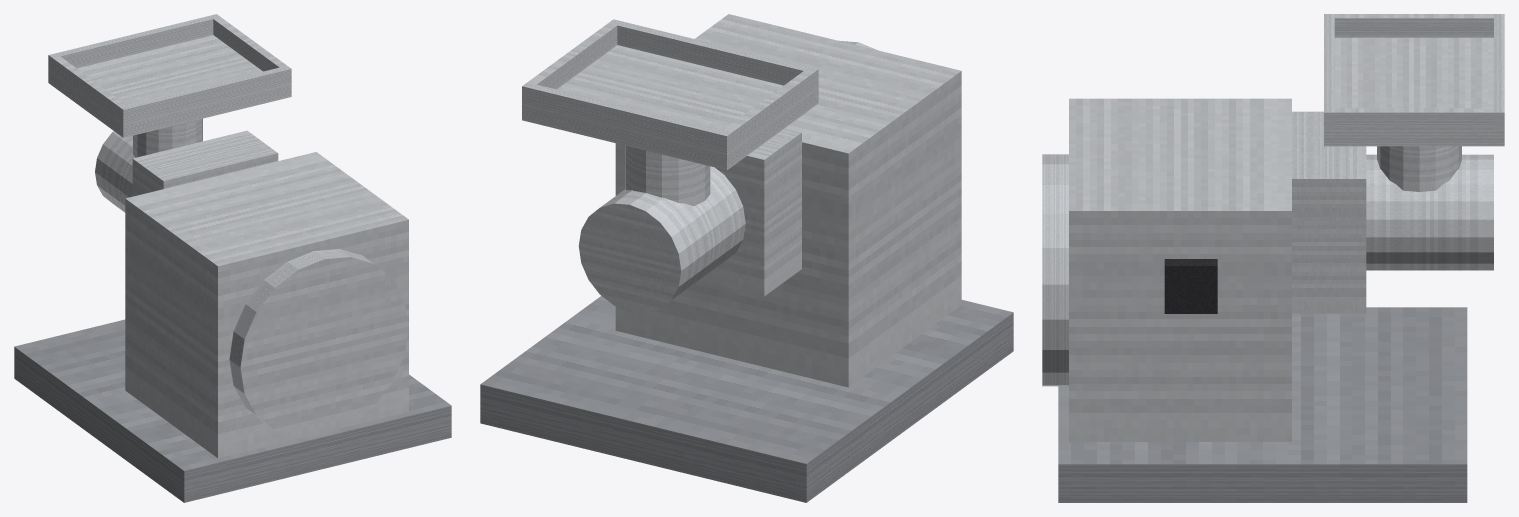
Rendered from kitchen_grinder.obj.
3 renders of one model, left to right at view 1: azimuth 30°, elevation 25°; view 2: azimuth 150°, elevation 25°; view 3: azimuth 270°, elevation 25°, orthographic. The views are drawn at different scales.
Visible parts, largest first — view 1: kitchen_grinder; view 2: kitchen_grinder; view 3: kitchen_grinder.
Part boxes in pixels (x1,y1,x2,y2): kitchen_grinder: (14,14,451,502); kitchen_grinder: (480,14,1013,502); kitchen_grinder: (1042,14,1504,502).
Size of the model in its own units: 0.7 by 0.75 by 0.87.
